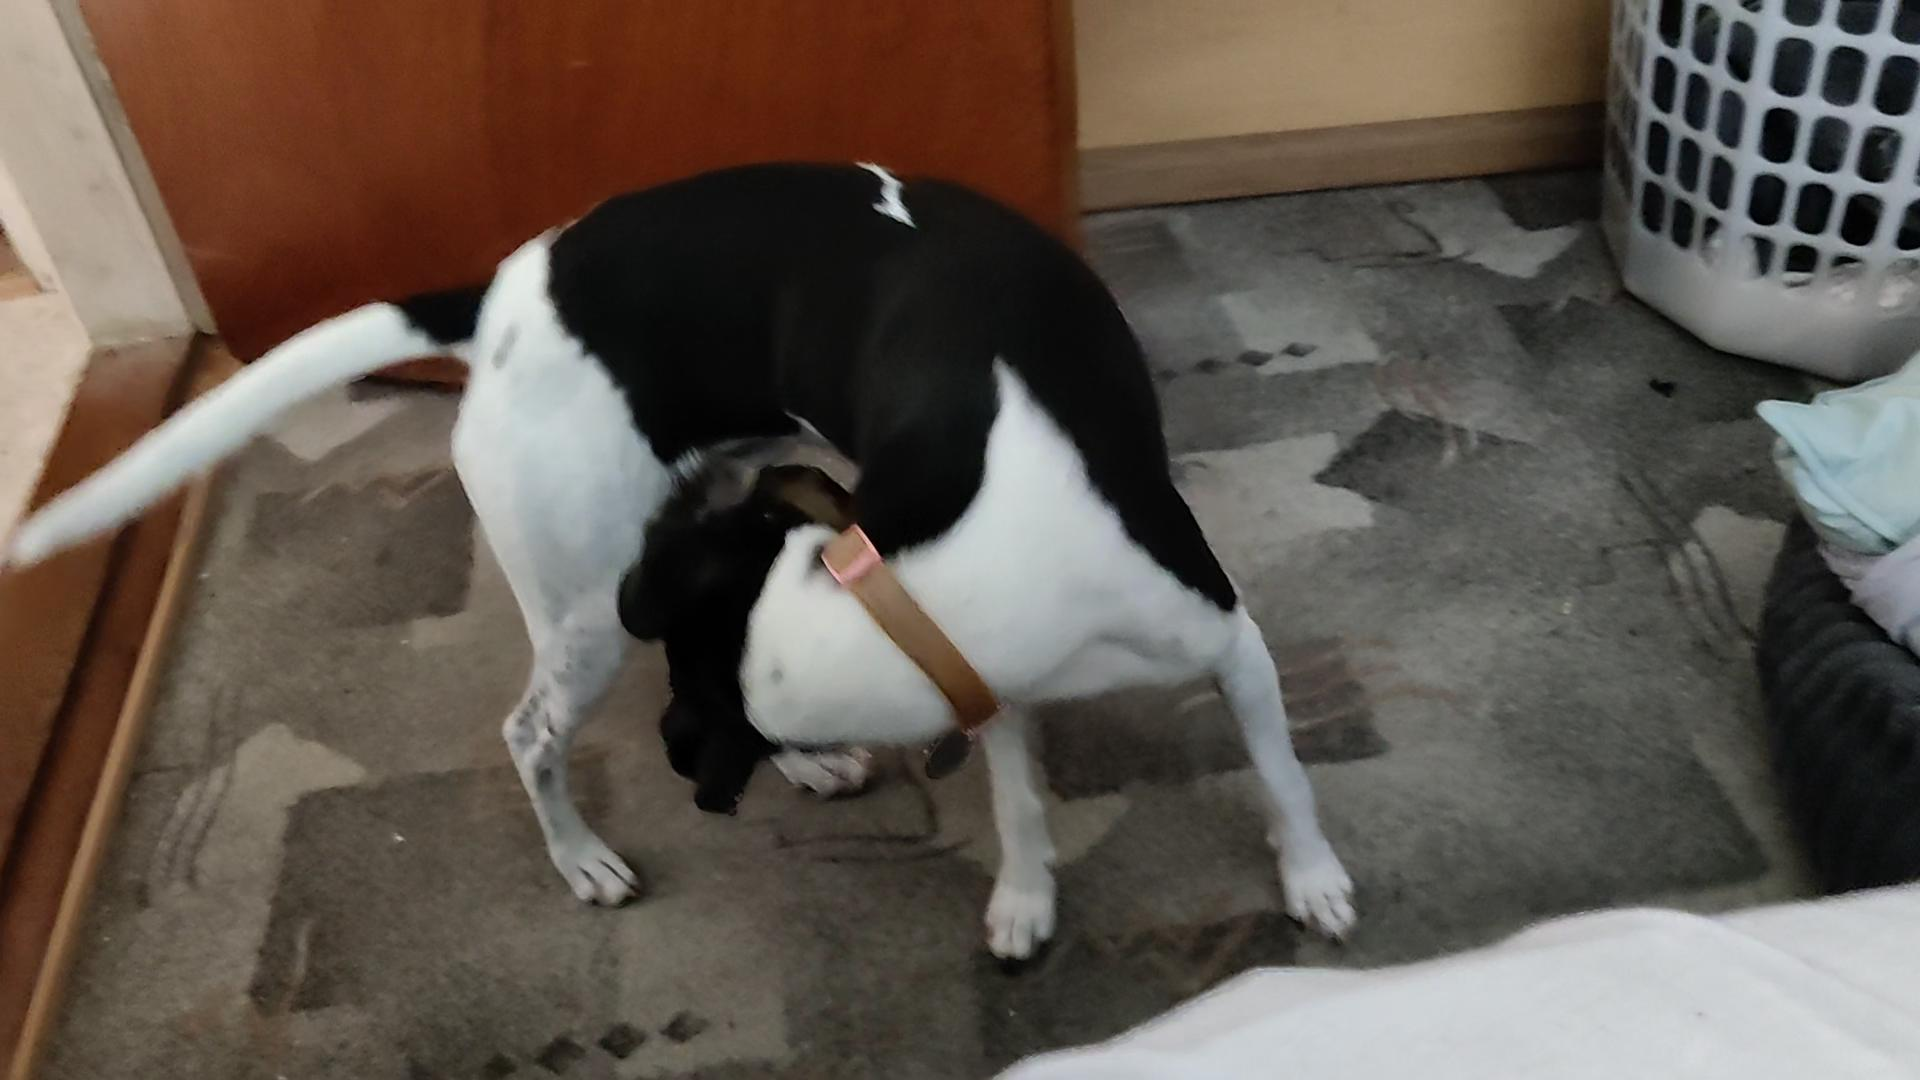Dog: (9, 138, 1369, 969)
